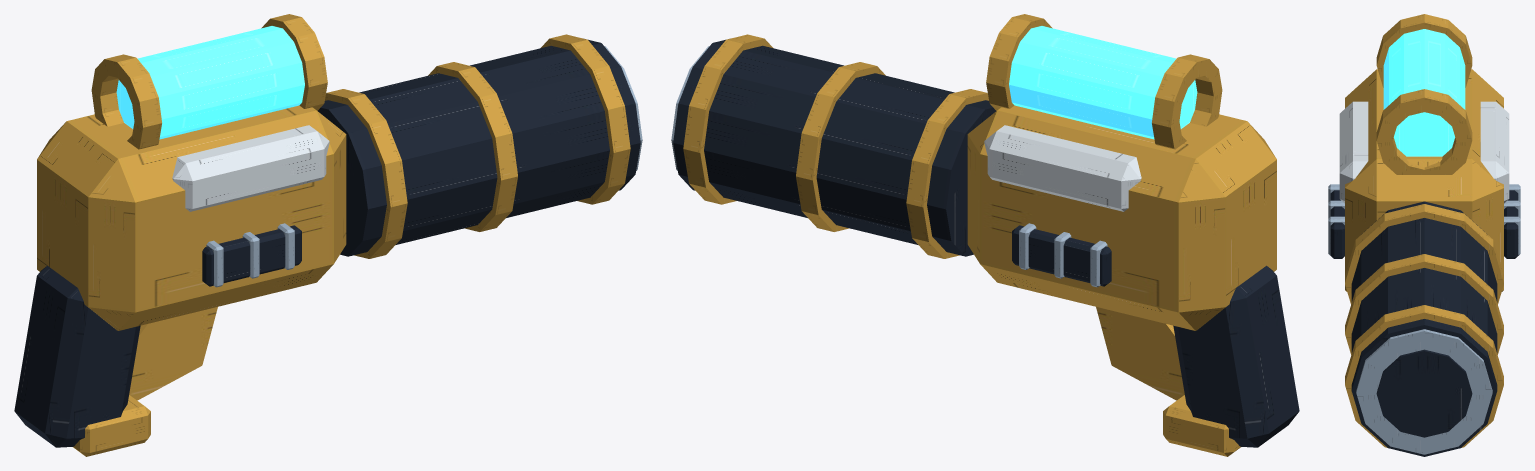
Rendered from blaster.glb.
3 views of the same model, side by side, from view 1: azimuth 30°, elevation 25°; view 2: azimuth 150°, elevation 25°; view 3: azimuth 270°, elevation 25° (orthographic). The views are drawn at different scales.
Parts seen in each view (by area): view 1: body, barrel, core; view 2: body, barrel, core; view 3: barrel, body, core.
Boxes of the visible parts, <box> form: body: <box>14,105,346,456</box>; barrel: <box>318,34,642,258</box>; core: <box>91,14,327,149</box>; body: <box>967,105,1299,456</box>; barrel: <box>671,34,995,258</box>; core: <box>986,14,1222,149</box>; barrel: <box>1345,201,1503,456</box>; body: <box>1328,69,1520,291</box>; core: <box>1376,14,1472,174</box>.
Size of the model in its own units: 0.5455 by 0.3295 by 0.169.
6 materials, 6 textured.
